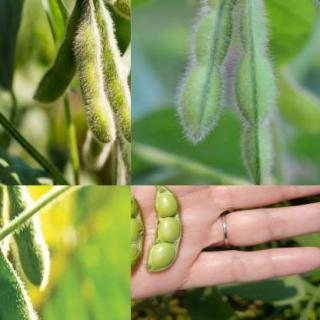soya: (176, 0, 243, 143), (236, 0, 276, 185), (73, 22, 115, 143), (0, 252, 70, 320), (6, 185, 52, 288), (95, 14, 130, 145), (147, 185, 183, 272), (33, 31, 74, 105), (131, 185, 144, 274)
